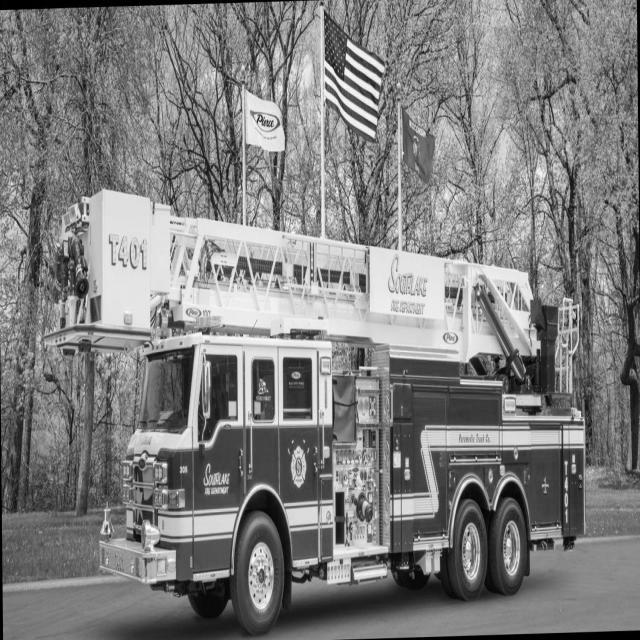Fire Truck: (36, 190, 585, 637)
